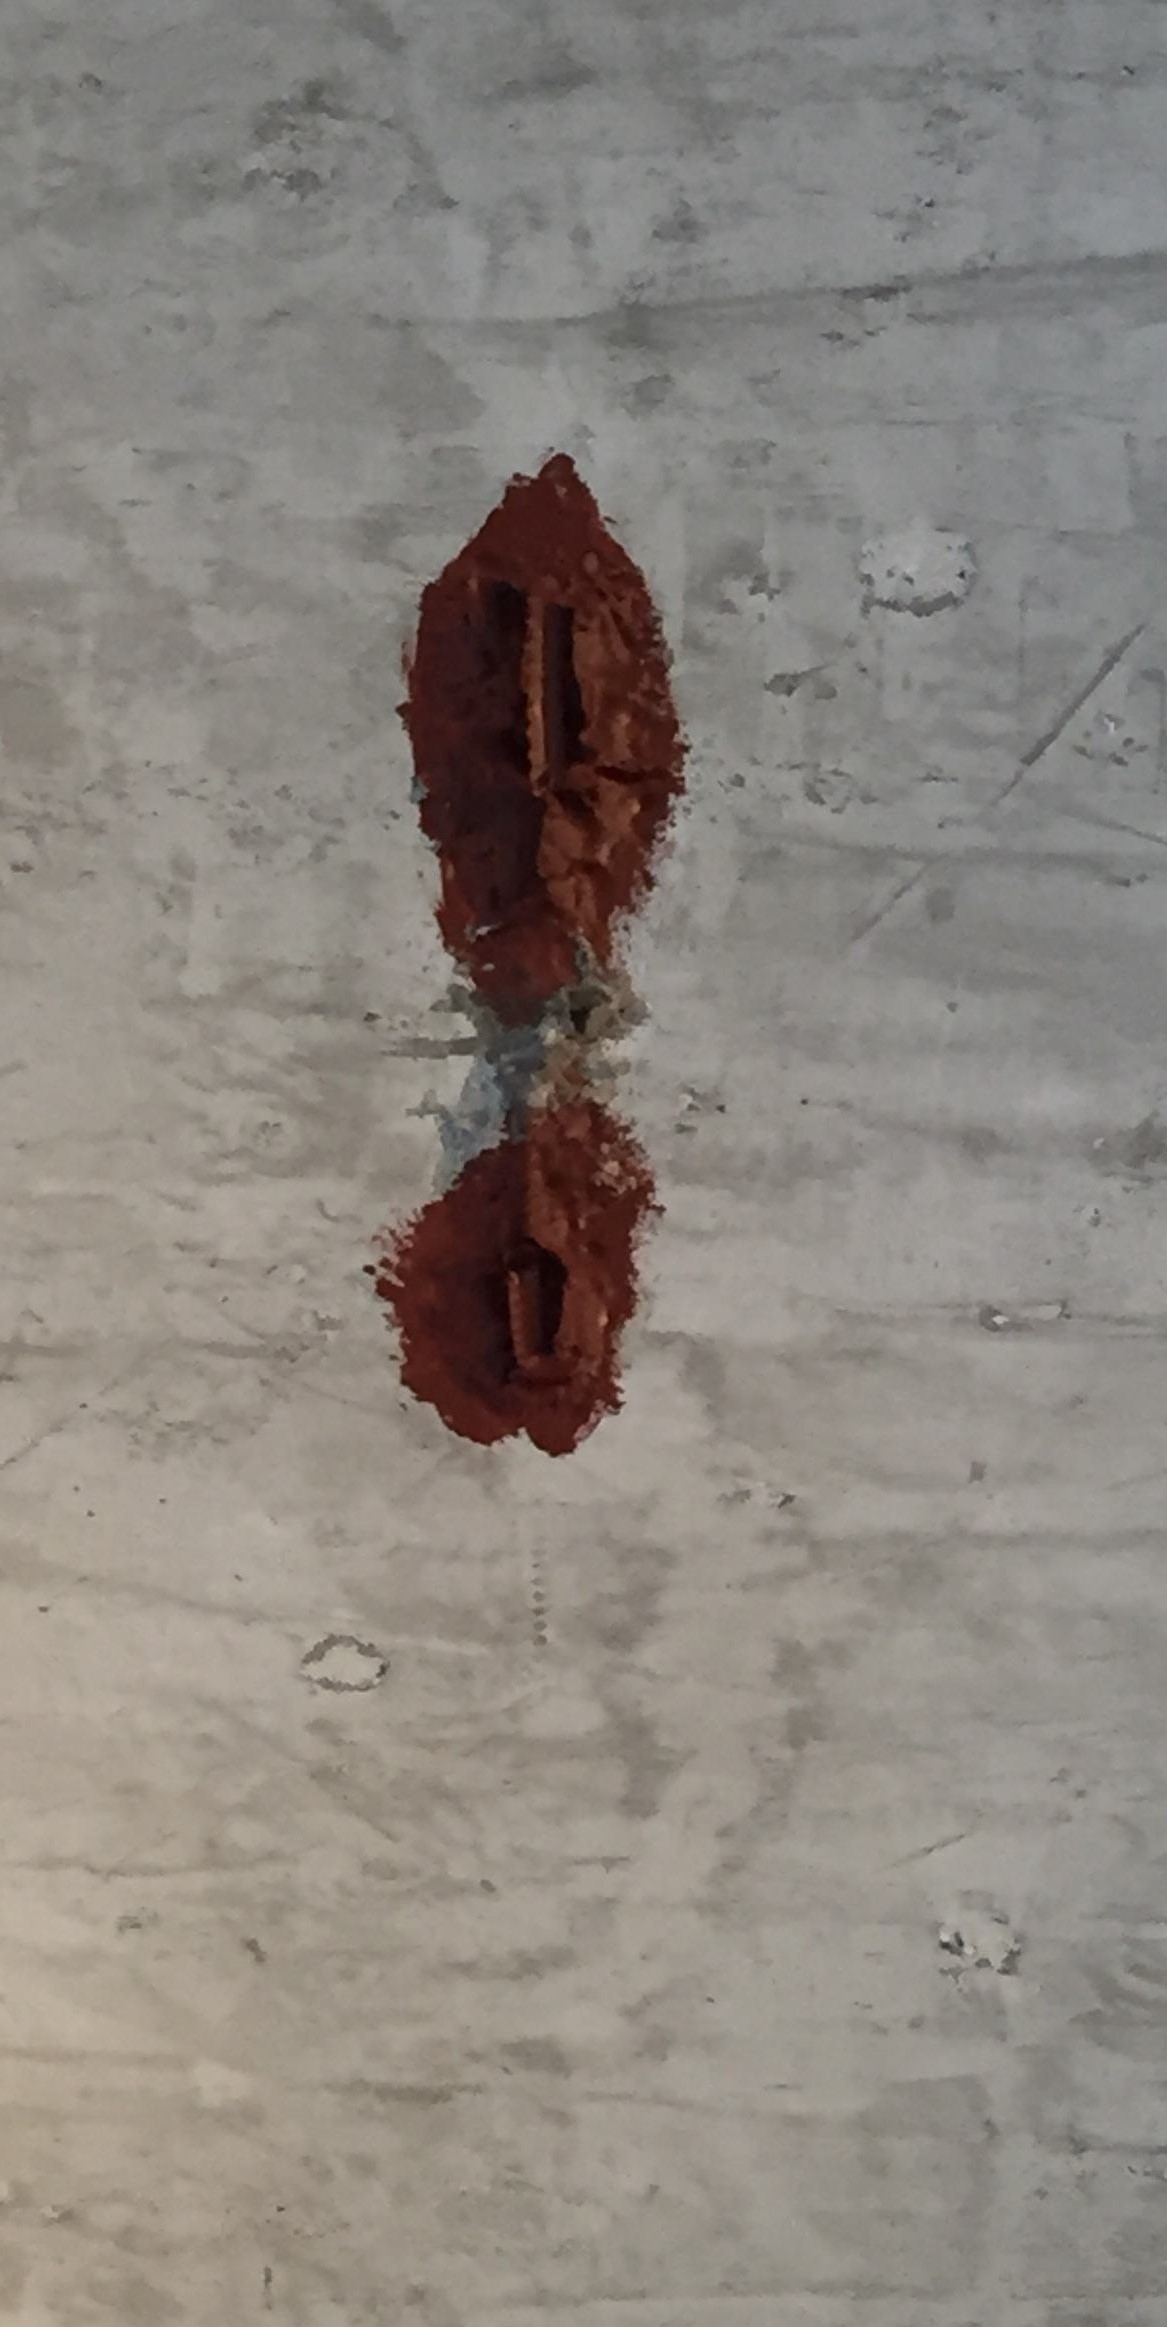Corrosion: (390, 452, 691, 1028), (363, 1092, 667, 1458)
Exposed reinforcement: (518, 594, 573, 800), (499, 1236, 546, 1364)
